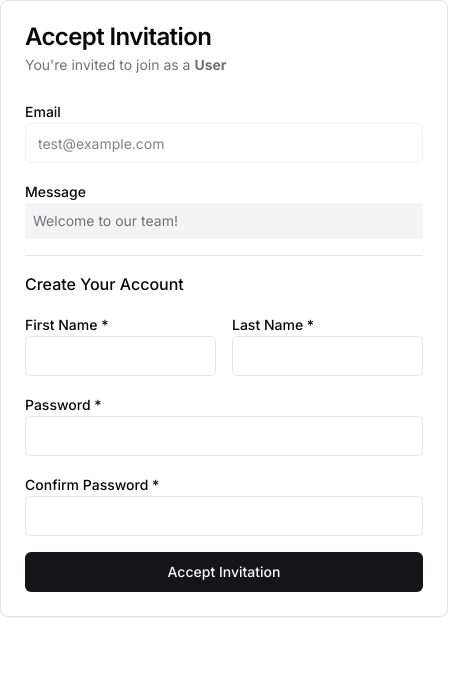
Test: InvitationAcceptanceForm › validates minimum password length
In the field labelled "First Name *": {"x": 120, "y": 356} [25,336,216,376], type "John"
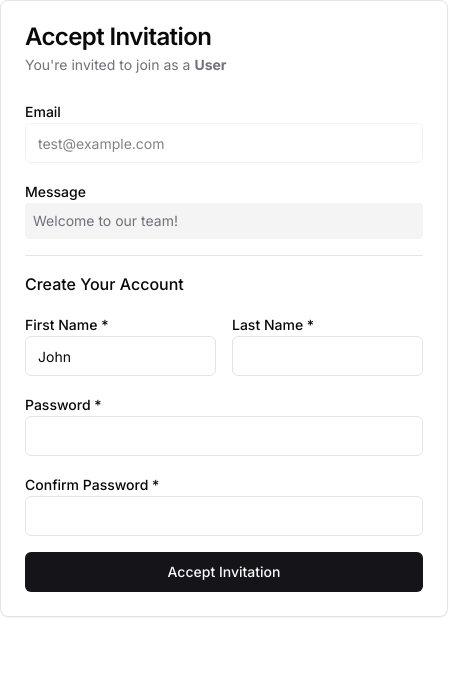
In the field labelled "Last Name *": {"x": 328, "y": 356} [232,336,423,376], type "Doe"
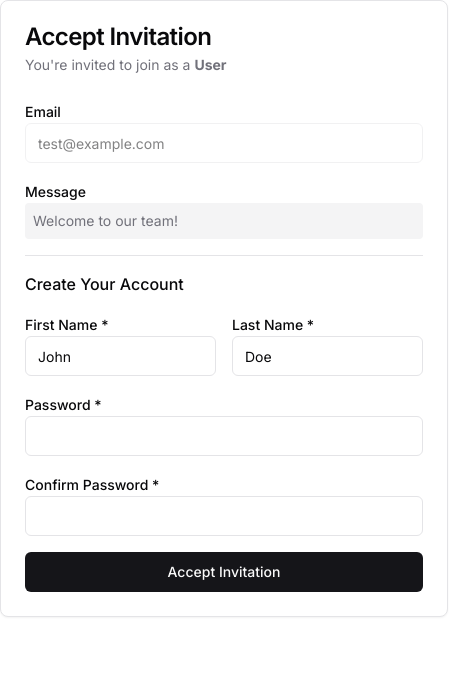
In the password field labelled "Password *": {"x": 224, "y": 436} [25,416,423,456], type "123"
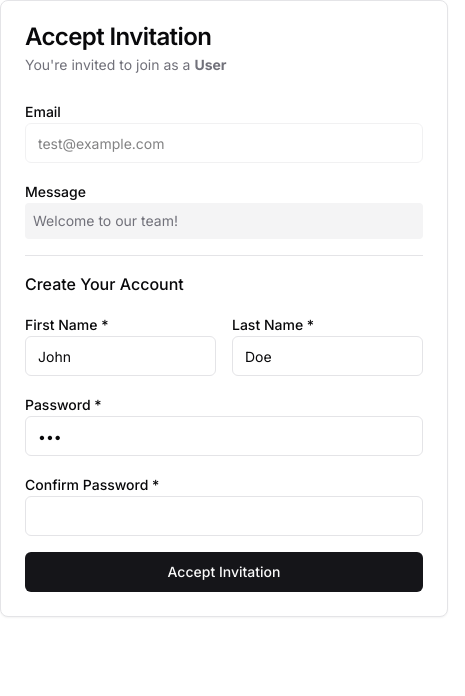
In the password field labelled "Confirm Password *": {"x": 224, "y": 516} [25,496,423,536], type "123"
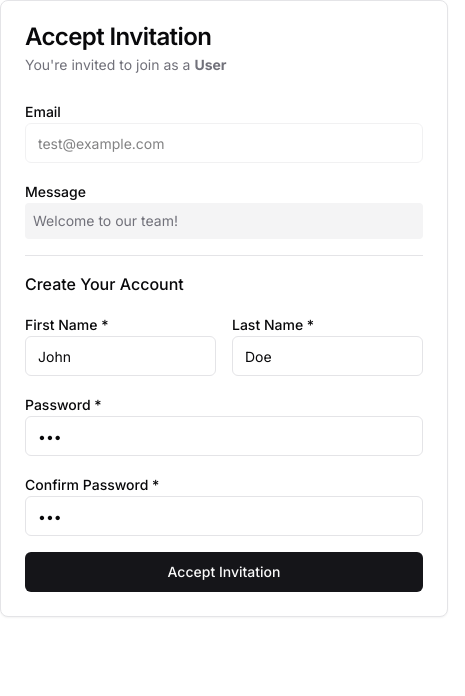
Click the button "Accept Invitation": {"x": 224, "y": 572} [25,552,423,592]
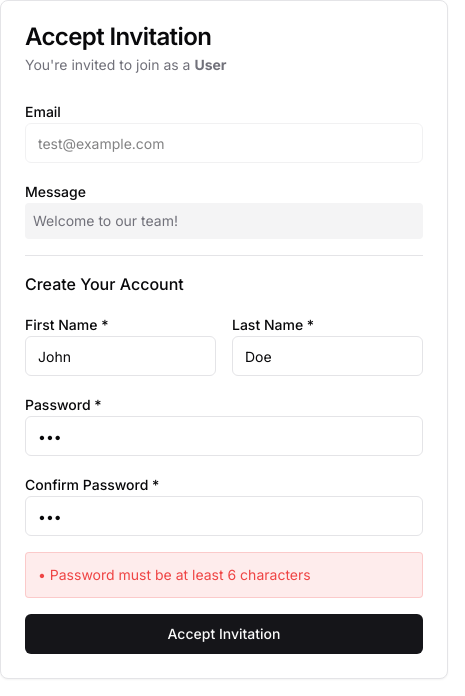
Result: the list item "• Password must be at least 6 characters" is shown at [38,566,311,583]
